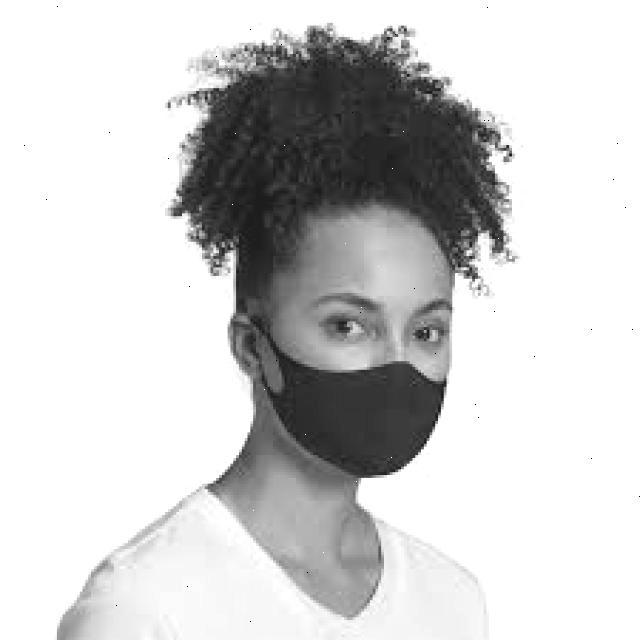fake: (252, 330, 466, 510)
real: (264, 215, 453, 487)
